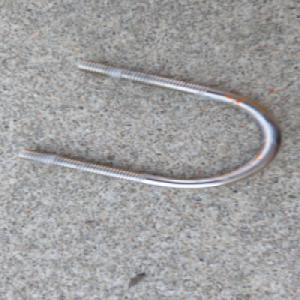ClampPart: (17, 57, 282, 190)
